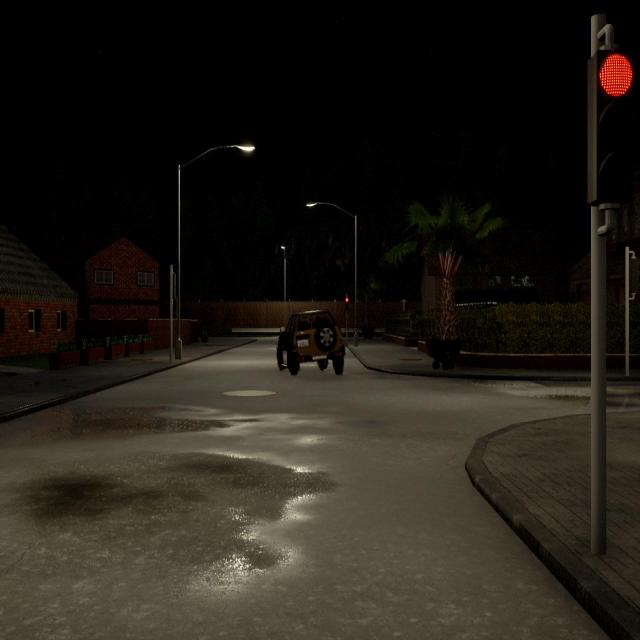Vehicle: (276, 310, 347, 375)
traffic_light: (587, 45, 640, 206), (629, 258, 639, 293), (173, 274, 176, 299), (345, 297, 349, 311)
